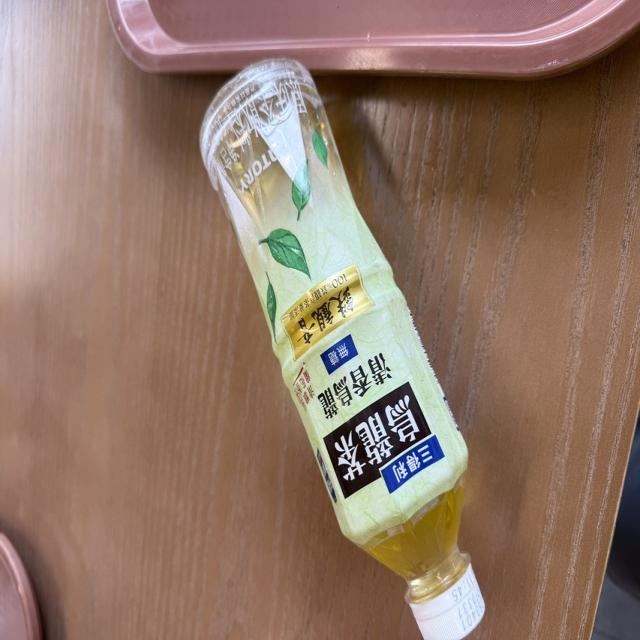high: (200, 60, 481, 639)
